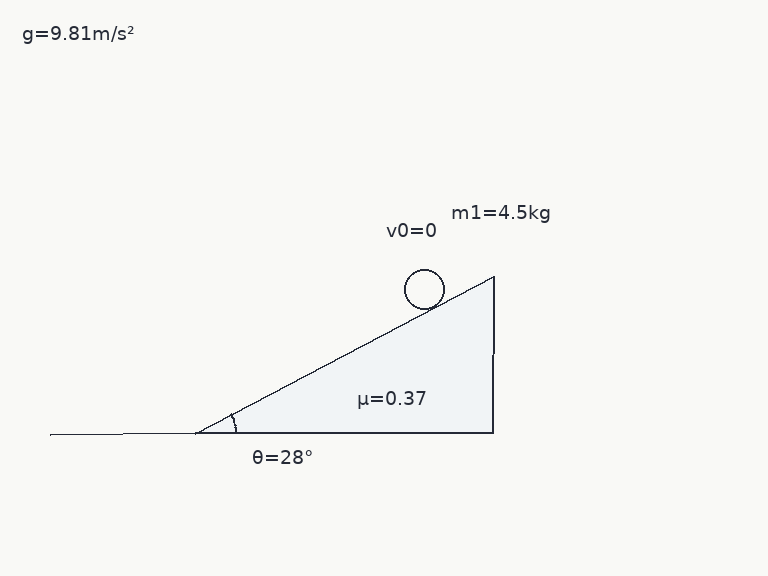ball: (402, 267, 446, 311)
ramp: (194, 273, 495, 435)
